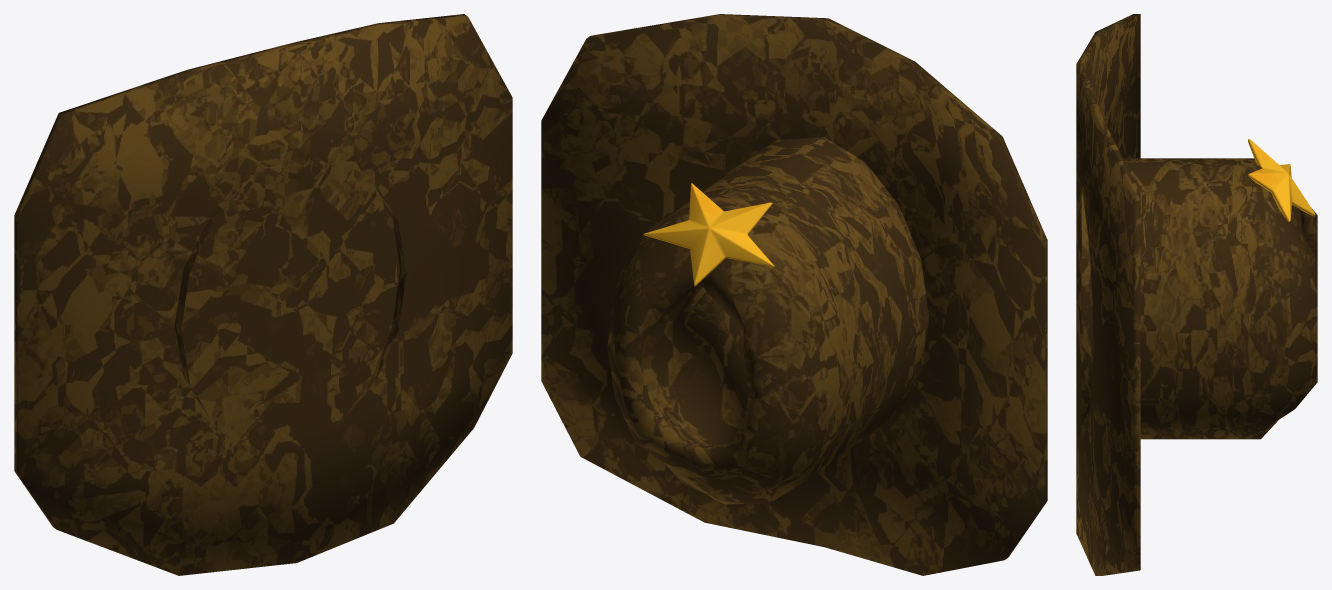
The model's file is Chapéu.fbx.
The picture shows the model from 3 angles, left to right: view 1: azimuth 30°, elevation 25°; view 2: azimuth 150°, elevation 25°; view 3: azimuth 270°, elevation 25°; orthographic projection. The views are drawn at different scales.
Visible parts, largest first — view 1: Chapéu; view 2: Chapéu; view 3: Chapéu.
Boxes of the visible parts, left/top/right/bottom form: Chapéu: left=14, top=14, right=512, bottom=575; Chapéu: left=541, top=14, right=1047, bottom=575; Chapéu: left=1076, top=14, right=1317, bottom=575.
Bounding box in the file's own units: 200 × 200 × 93.21.
